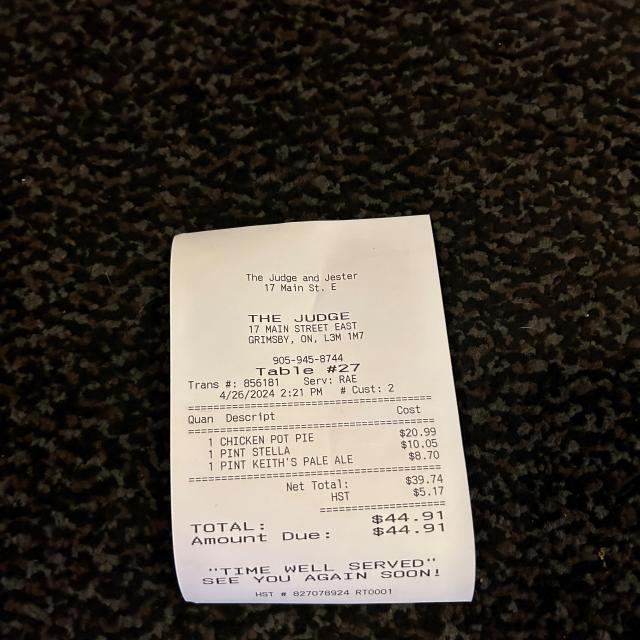item: (214, 449, 443, 472), (213, 436, 442, 458), (214, 425, 442, 446)
store_name: (244, 310, 355, 325)
total_amount: (185, 507, 455, 535)
transaction_date: (216, 387, 278, 402)
